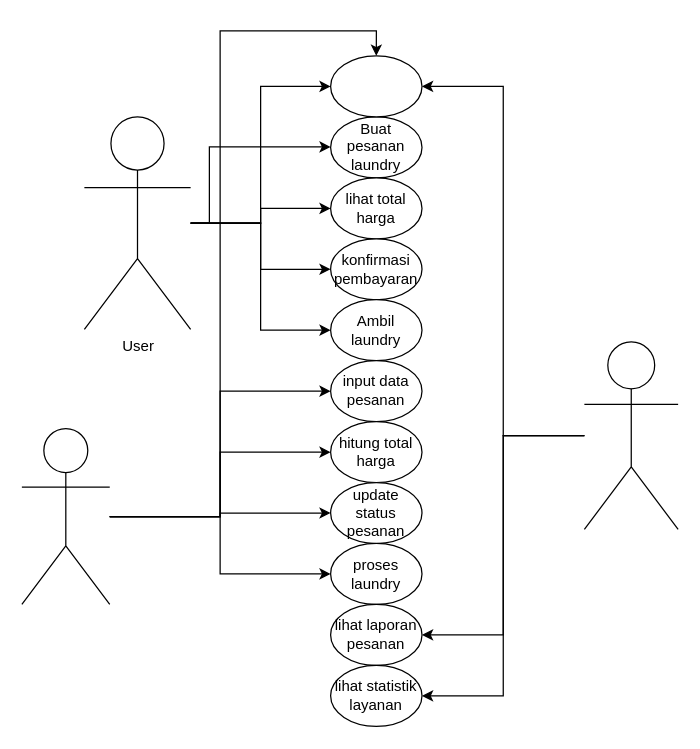
Image size: 700x749. Some labels were removed from this diagram. Each missing label, with the centre of its shape:
"Admin" belongs at point (630, 435).
"Kasir" belongs at point (65, 515).
"login ke website" belongs at point (375, 86).
